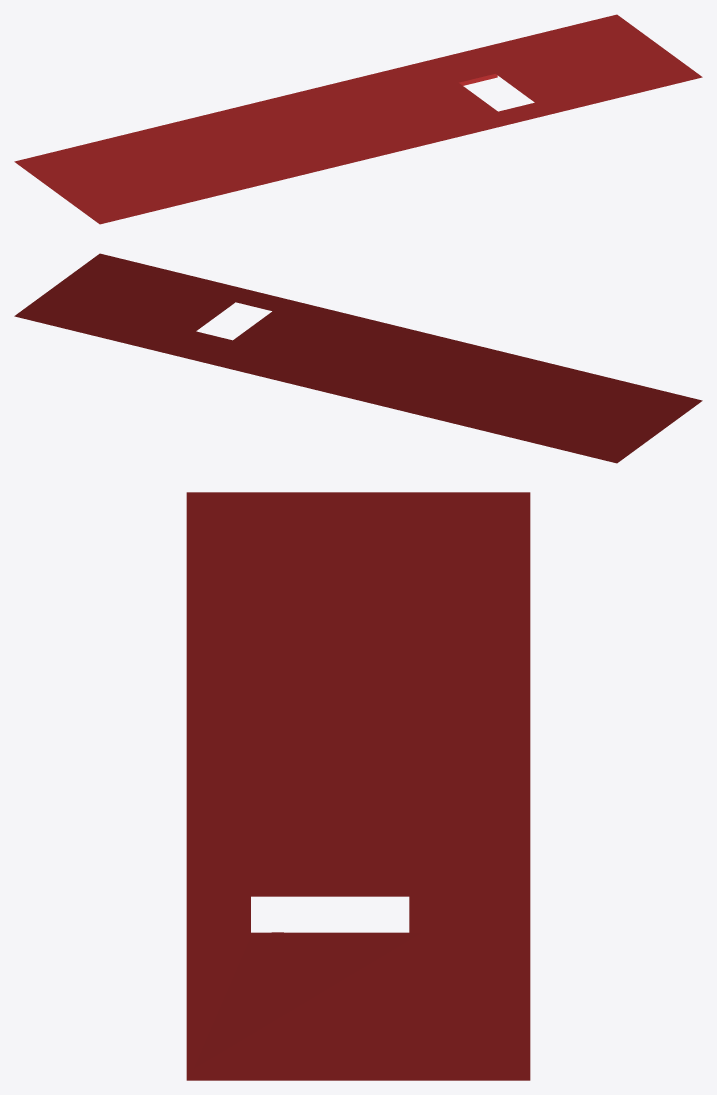
File: hotl_floor_2.FBX
The picture shows the model from 3 angles, top to bottom: view 1: azimuth 30°, elevation 25°; view 2: azimuth 150°, elevation 25°; view 3: azimuth 270°, elevation 25°; orthographic projection. The views are drawn at different scales.
Visible parts, largest first — view 1: floor_2; view 2: floor_2; view 3: floor_2.
Part boxes in pixels (box(x1,y1,x2,y2)): floor_2: box(14, 14, 702, 224); floor_2: box(14, 253, 702, 463); floor_2: box(186, 492, 530, 1080).
Size of the model in its own units: 44.05 by 0.3063 by 10.87.
